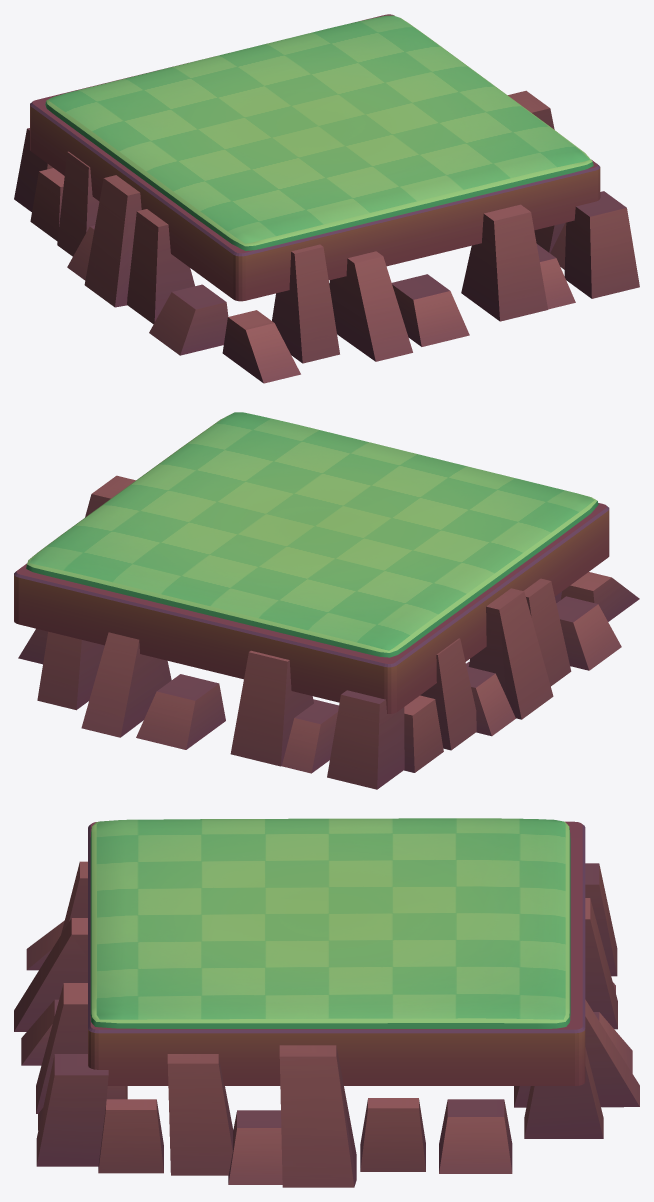
The model's file is PlatfromSmall.fbx.
3 renders of one model, top to bottom at view 1: azimuth 30°, elevation 25°; view 2: azimuth 150°, elevation 25°; view 3: azimuth 270°, elevation 25°, orthographic. The views are drawn at different scales.
Parts seen in each view (by area): view 1: PlatfromSmall, birch_red_mat-material_50, birch_red_mat-material_51, birch_red_mat-material_40, birch_red_mat-material_54, birch_red_mat-material_46.001, birch_red_mat-material_44.002, birch_red_mat-material_47.002, birch_red_mat-material_45, birch_red_mat-material_53, birch_red_mat-material_44.001, birch_red_mat-material_49.001 (+4 smaller); view 2: PlatfromSmall, birch_red_mat-material_46.001, birch_red_mat-material_40.001, birch_red_mat-material_50.001, birch_red_mat-material_51.001, birch_red_mat-material_45.001, birch_red_mat-material_54.001, birch_red_mat-material_44.001, birch_red_mat-material_47.002, birch_red_mat-material_52.001, birch_red_mat-material_44.002, birch_red_mat-material_49.001 (+4 smaller); view 3: PlatfromSmall, birch_red_mat-material_46, birch_red_mat-material_44, birch_red_mat-material_40, birch_red_mat-material_47.003, birch_red_mat-material_49.002, birch_red_mat-material_49, birch_red_mat-material_54.001, birch_red_mat-material_51, birch_red_mat-material_47, birch_red_mat-material_51.001, birch_red_mat-material_50 (+6 smaller).
Part boxes in pixels (<box>): PlatfromSmall: <box>30,14,600,301</box>; birch_red_mat-material_50: <box>461,204,547,321</box>; birch_red_mat-material_51: <box>329,251,412,361</box>; birch_red_mat-material_40: <box>564,191,639,298</box>; birch_red_mat-material_54: <box>272,244,339,363</box>; birch_red_mat-material_46.001: <box>84,175,141,307</box>; birch_red_mat-material_44.002: <box>127,209,194,323</box>; birch_red_mat-material_47.002: <box>149,284,228,355</box>; birch_red_mat-material_45: <box>391,274,469,346</box>; birch_red_mat-material_53: <box>222,310,300,383</box>; birch_red_mat-material_44.001: <box>57,151,99,256</box>; birch_red_mat-material_49.001: <box>30,168,64,241</box>; PlatfromSmall: <box>14,412,609,713</box>; birch_red_mat-material_46.001: <box>468,588,553,719</box>; birch_red_mat-material_40.001: <box>327,690,404,789</box>; birch_red_mat-material_50.001: <box>230,650,313,766</box>; birch_red_mat-material_51.001: <box>81,632,171,737</box>; birch_red_mat-material_45.001: <box>136,674,225,749</box>; birch_red_mat-material_54.001: <box>37,631,104,710</box>; birch_red_mat-material_44.001: <box>420,638,476,750</box>; birch_red_mat-material_47.002: <box>556,596,621,670</box>; birch_red_mat-material_52.001: <box>281,699,338,773</box>; birch_red_mat-material_44.002: <box>523,578,571,686</box>; birch_red_mat-material_49.001: <box>404,695,443,772</box>; PlatfromSmall: <box>88,818,585,1085</box>; birch_red_mat-material_46: <box>279,1045,356,1187</box>; birch_red_mat-material_44: <box>167,1054,233,1175</box>; birch_red_mat-material_40: <box>36,1054,108,1166</box>; birch_red_mat-material_47.003: <box>439,1099,512,1173</box>; birch_red_mat-material_49.002: <box>360,1098,425,1171</box>; birch_red_mat-material_49: <box>98,1099,163,1173</box>; birch_red_mat-material_54.001: <box>524,1047,603,1138</box>; birch_red_mat-material_51: <box>14,918,87,1031</box>; birch_red_mat-material_47: <box>228,1110,282,1184</box>; birch_red_mat-material_51.001: <box>514,999,639,1107</box>; birch_red_mat-material_50: <box>36,983,127,1113</box>.
Size of the model in its own units: 12.08 by 3.12 by 12.43.
